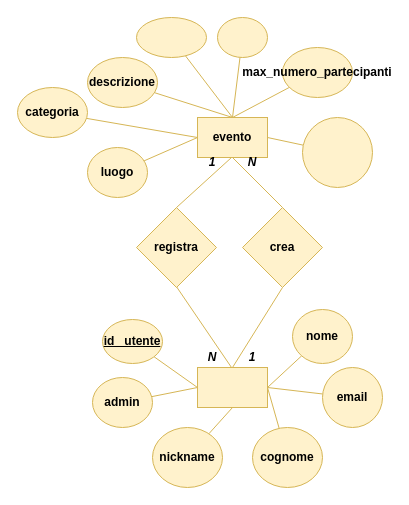
Some shapes in this 409 by 505 pixel diagram are drawn without their labels. The centre of each missing label's shape, as x and y in pixels:
data: the point at 242,37
id_evento: the point at 171,37
titolo: the point at 337,152
utente: the point at 232,387
